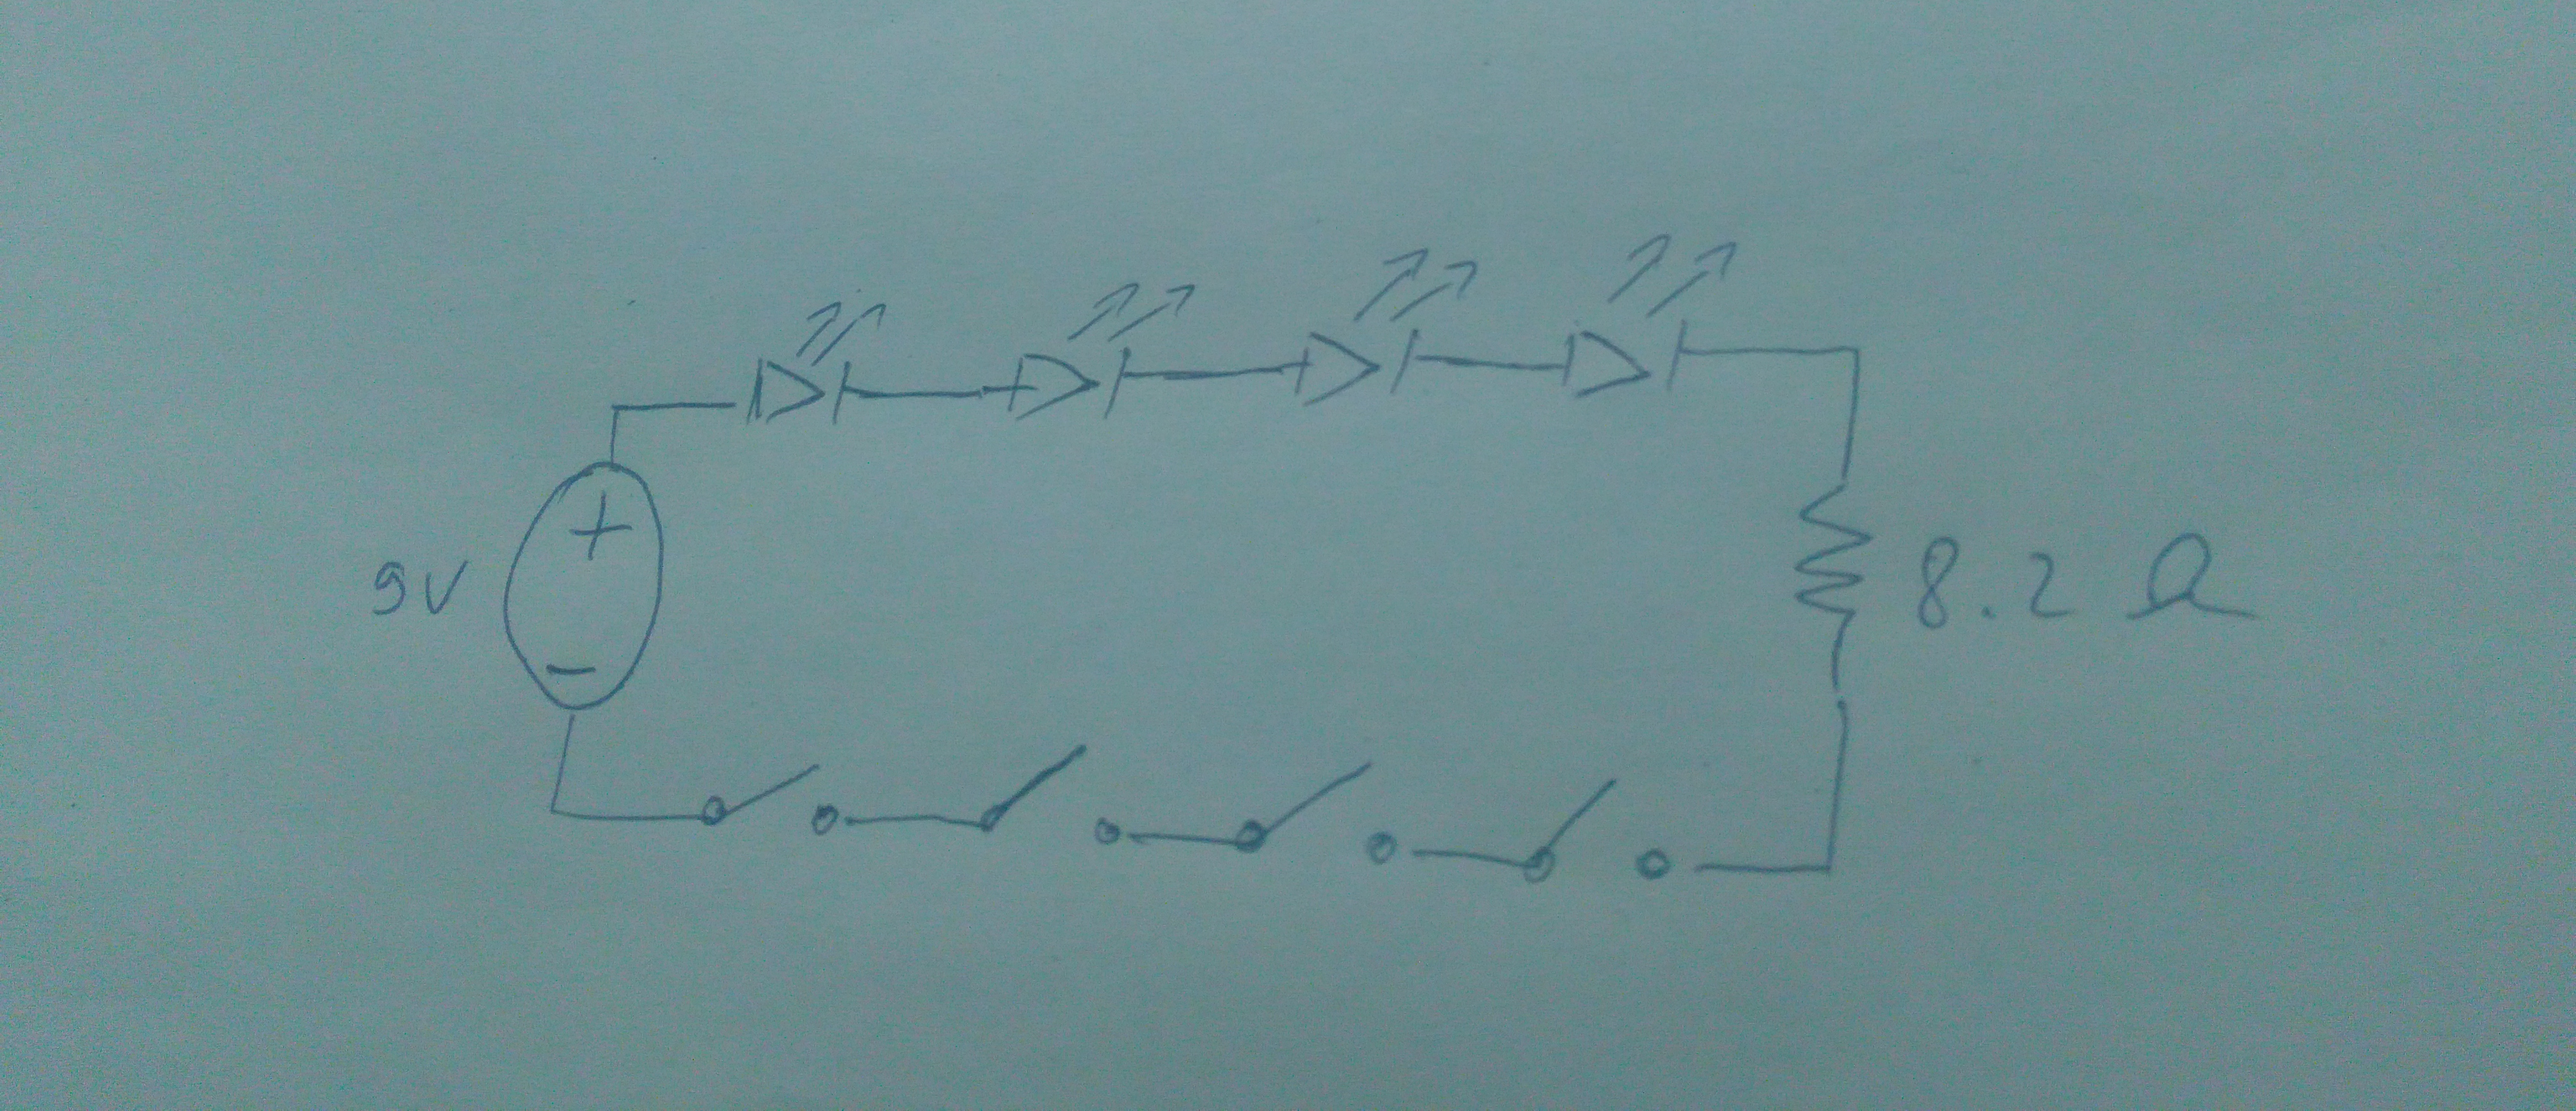diode.light_emitting: (1529, 219, 1755, 417), (1255, 240, 1492, 424), (981, 276, 1211, 447), (724, 283, 899, 450)
junction: (1794, 830, 1855, 901), (526, 777, 586, 833), (1828, 334, 1876, 381), (596, 390, 641, 427)
resistor: (1776, 462, 1881, 649)
switch: (1495, 766, 1695, 901), (1221, 745, 1421, 878), (956, 725, 1138, 855), (685, 741, 864, 860)
text: (1899, 524, 2279, 648), (356, 549, 475, 628)
voltage.dc: (483, 450, 682, 731)
